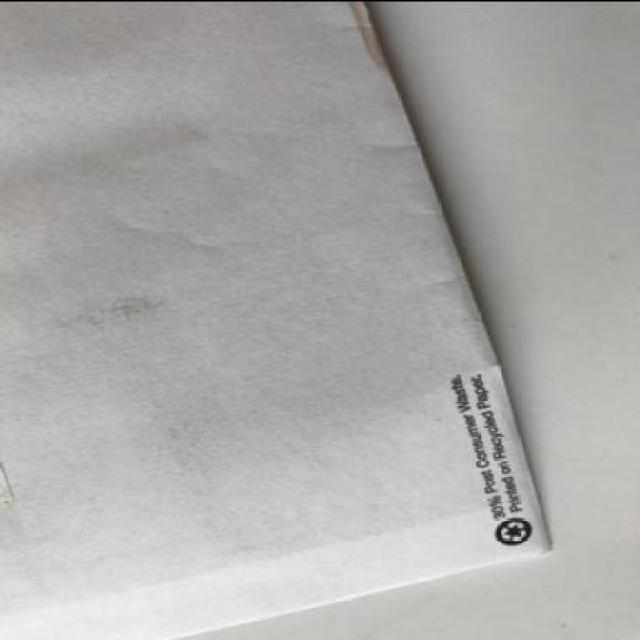PAPER: (0, 4, 549, 639)
